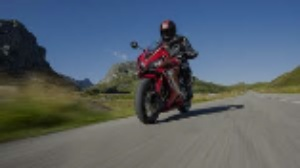Vehicle: (131, 36, 195, 127)
